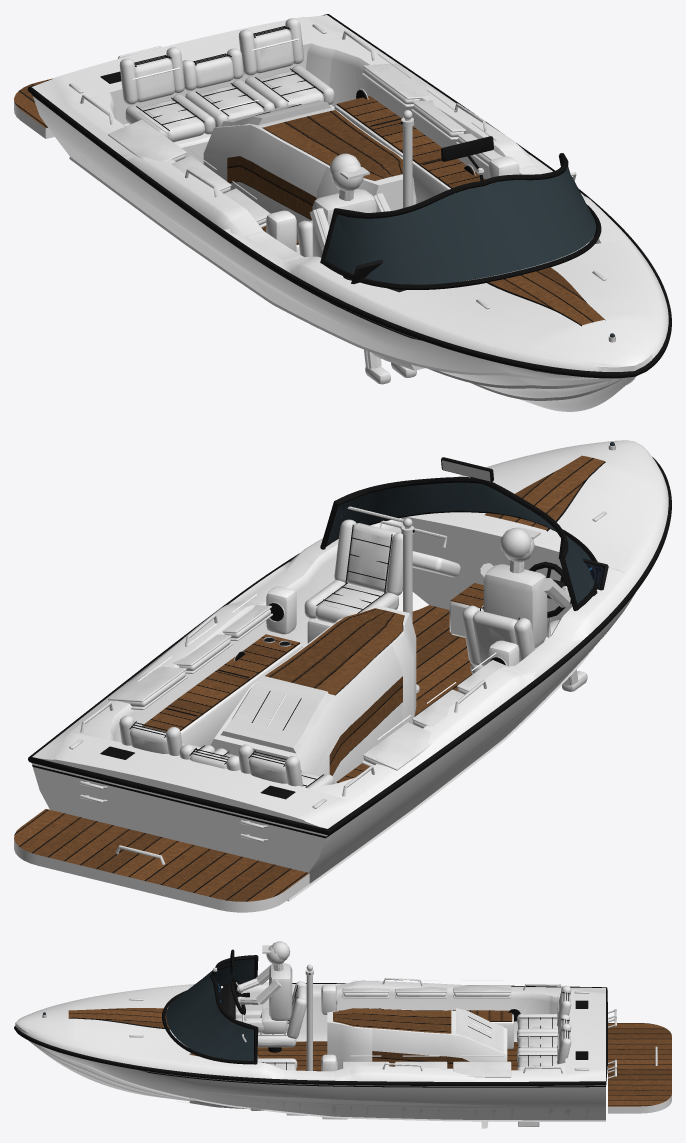
Rendered from SkiBoat.fbx.
The picture shows the model from 3 angles, top to bottom: view 1: azimuth 30°, elevation 25°; view 2: azimuth 150°, elevation 25°; view 3: azimuth 270°, elevation 25°; orthographic projection. The views are drawn at different scales.
Parts seen in each view (by area): view 1: SkiBoat_LOD0, SkiBoat_Phone; view 2: SkiBoat_LOD0, SkiBoat_Phone; view 3: SkiBoat_LOD0, SkiBoat_Phone.
Part boxes in pixels (x1,y1,x2,y2): SkiBoat_LOD0: (14,14,671,411); SkiBoat_Phone: (14,14,671,411); SkiBoat_LOD0: (14,440,671,912); SkiBoat_Phone: (14,440,671,912); SkiBoat_LOD0: (14,941,671,1128); SkiBoat_Phone: (21,943,667,1121).
Size of what is drawn, in the model's own units: 2.43 by 1.94 by 6.8.
